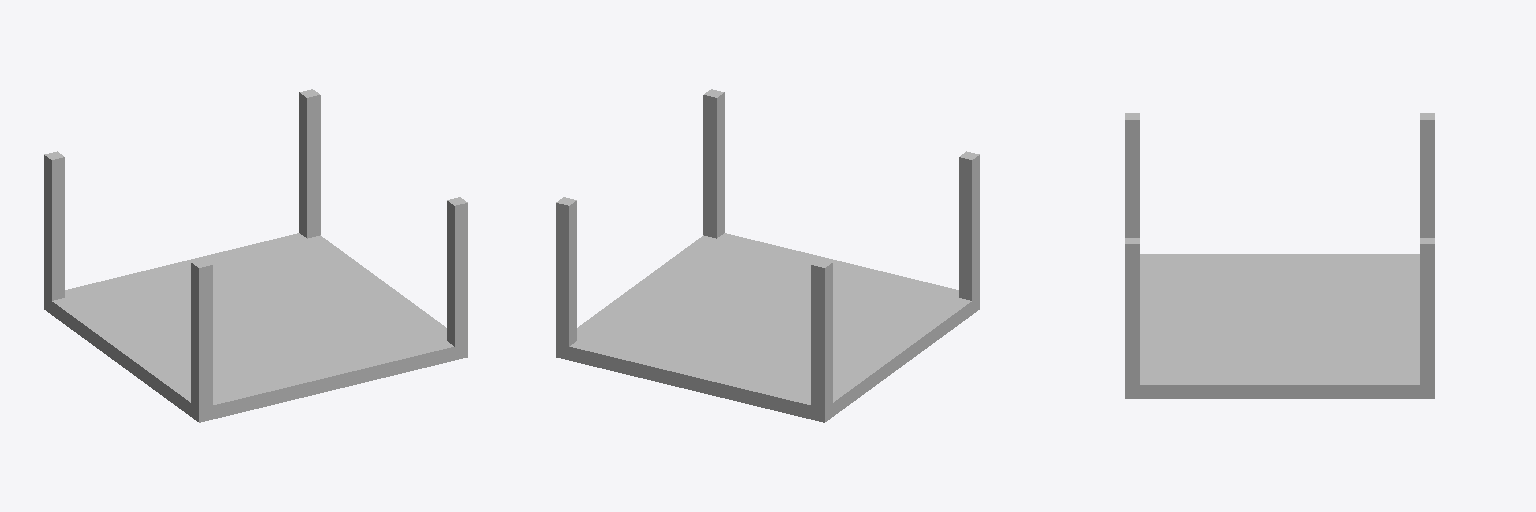
Rendered from inventoryScanner.obj.
The picture shows the model from 3 angles: view 1: azimuth 30°, elevation 25°; view 2: azimuth 150°, elevation 25°; view 3: azimuth 270°, elevation 25°; orthographic projection.
Parts seen in each view (by area): view 1: BasePlate; view 2: BasePlate; view 3: BasePlate.
Part boxes in pixels (x1,y1,x2,y2): BasePlate: (44,89,467,422); BasePlate: (556,89,979,422); BasePlate: (1125,113,1434,398).
Size of the model in its own units: 2 by 1.1 by 2.